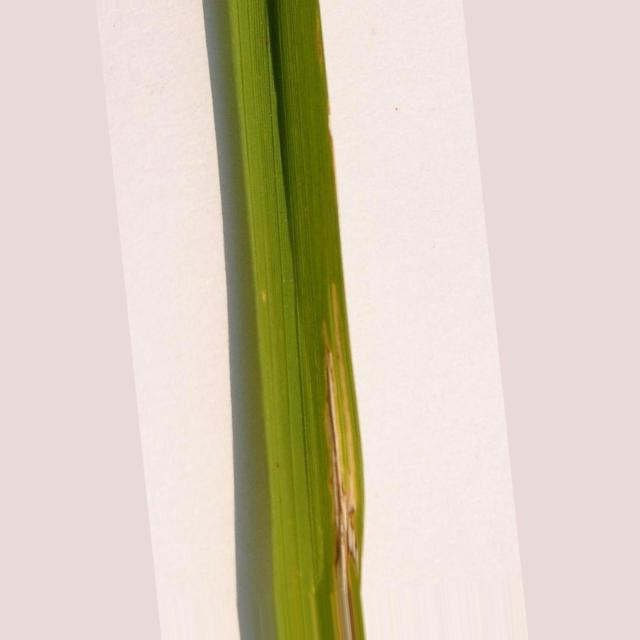Bacterial_Leaf_Blight: (324, 282, 364, 640)
